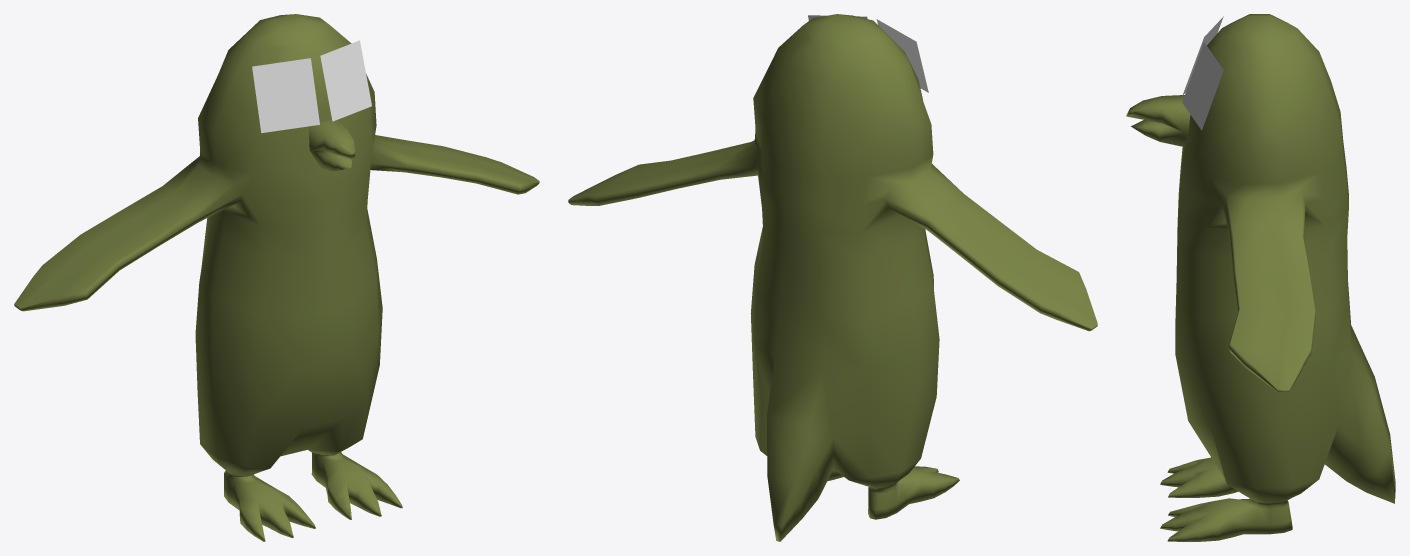
Rendered from MESH_FigPenguin05.fbx.
3 renders of one model, left to right at view 1: azimuth 30°, elevation 25°; view 2: azimuth 150°, elevation 25°; view 3: azimuth 270°, elevation 25°, orthographic. The views are drawn at different scales.
Visible parts, largest first — view 1: MESH_FIGPENGUIN5; view 2: MESH_FIGPENGUIN5; view 3: MESH_FIGPENGUIN5.
Part boxes in pixels (x1,y1,x2,y2): MESH_FIGPENGUIN5: (14,14,539,541); MESH_FIGPENGUIN5: (568,14,1097,541); MESH_FIGPENGUIN5: (1126,14,1395,541).
Size of the model in its own units: 140 by 121 by 61.09.
